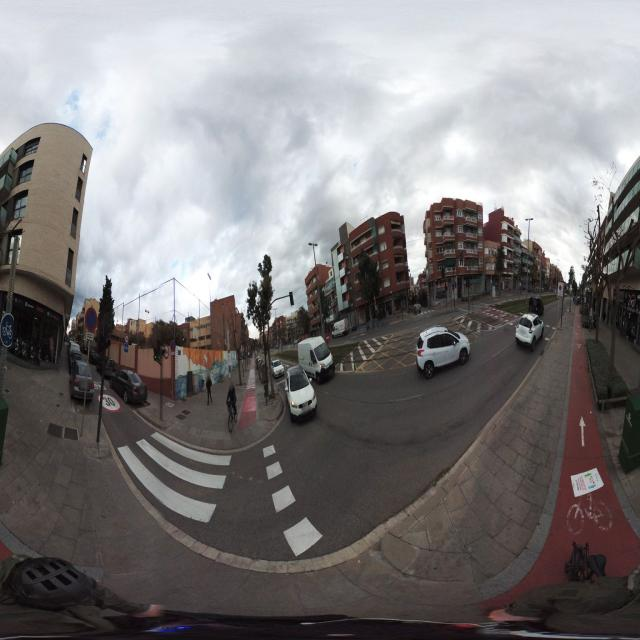forb_stopping: (85, 307, 98, 333), (170, 339, 176, 352), (559, 285, 561, 291)
